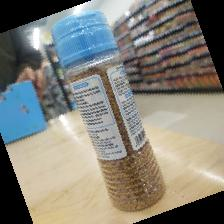TayNinh_blue: (54, 12, 166, 210)
